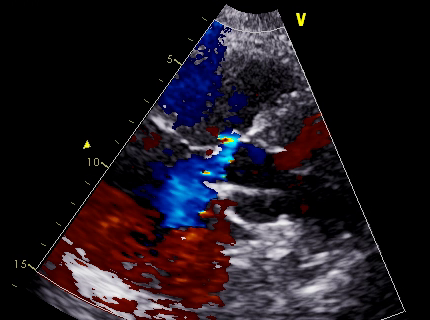TR: (176, 126, 229, 197)
